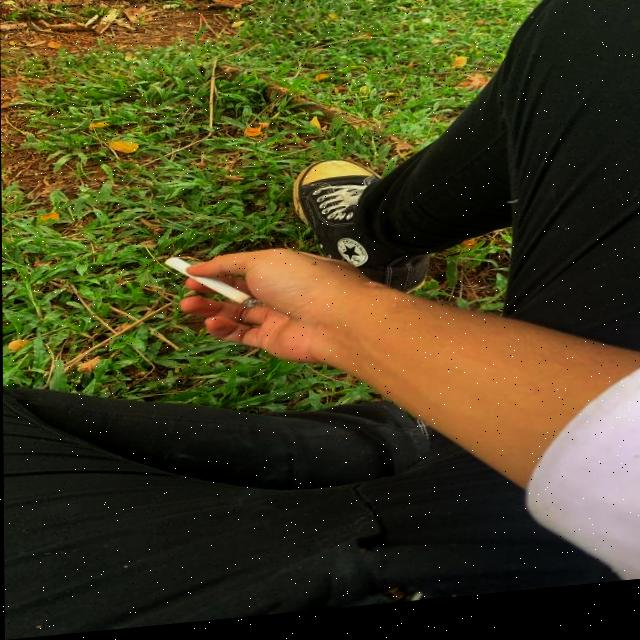cigarette: (169, 252, 259, 320)
